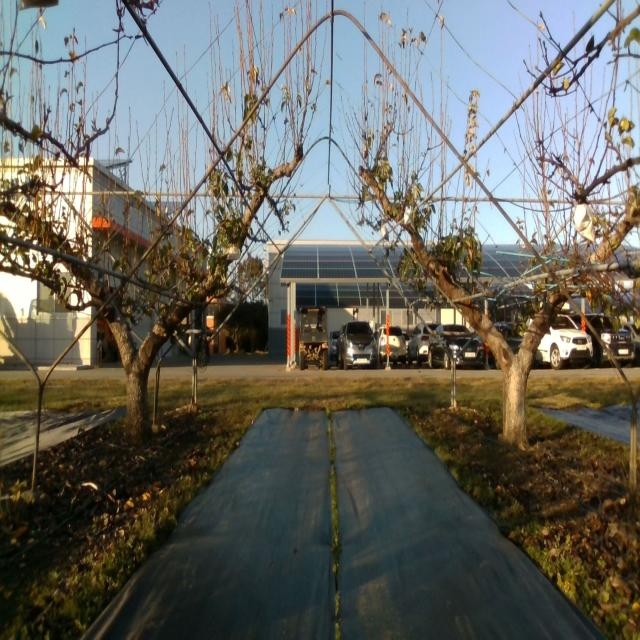pearbags: (572, 200, 595, 243)
